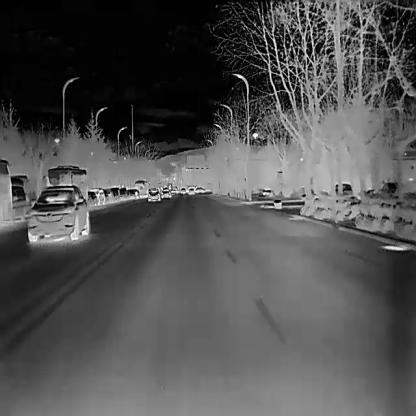bus: (41, 162, 87, 202), (134, 178, 147, 195)
car: (25, 183, 91, 244), (2, 182, 33, 220), (334, 180, 352, 198), (89, 188, 105, 204), (105, 185, 120, 201), (147, 186, 160, 200), (160, 187, 172, 200), (127, 188, 138, 200), (119, 185, 126, 199), (170, 186, 179, 196), (194, 186, 206, 193), (188, 187, 194, 194), (180, 187, 186, 194)
